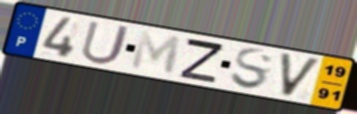4: (41, 15, 78, 59)
M: (128, 29, 183, 77)
S: (228, 47, 276, 92)
U: (78, 19, 133, 67)
V: (278, 51, 324, 100)
Z: (178, 36, 227, 85)
